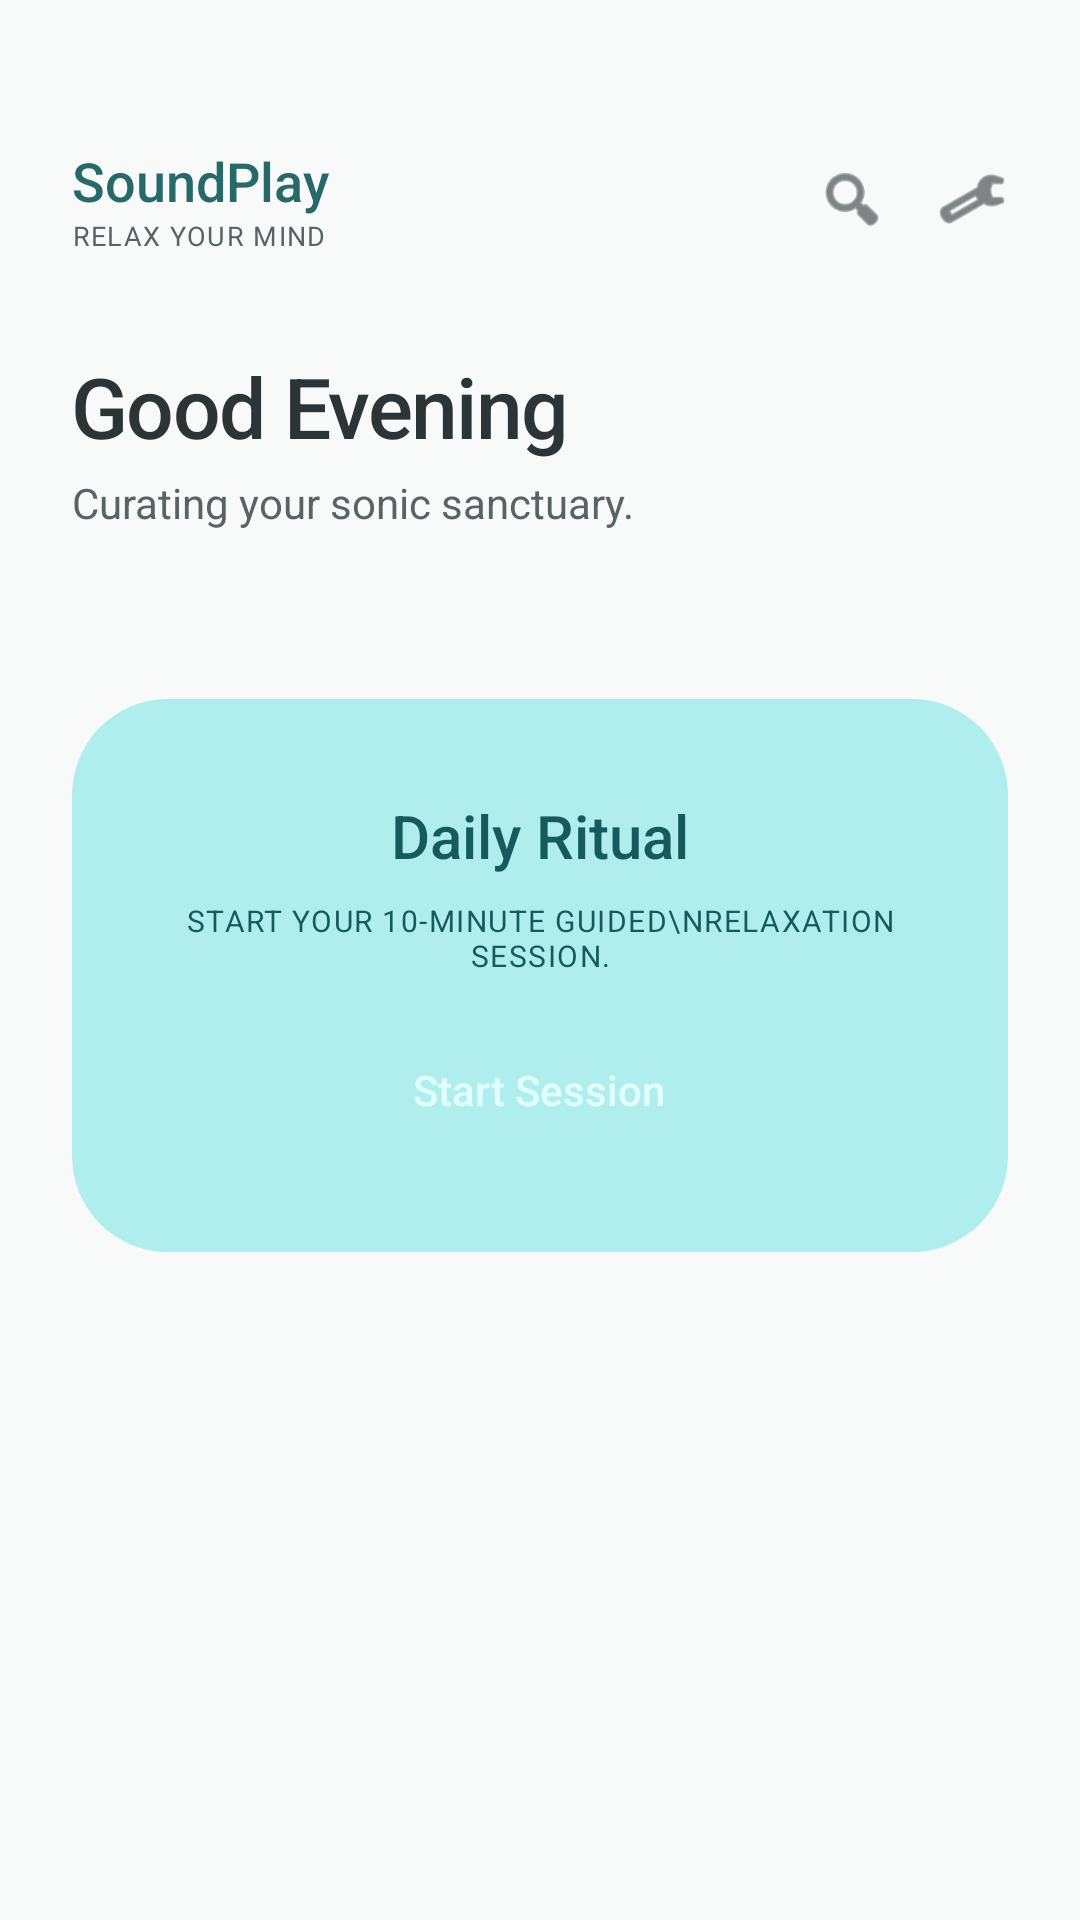

Where icons sit on this 1080 × 1920 app screen, as (x1, y1, x2, y2):
Search: (825, 173, 879, 226)
Settings: (940, 174, 1004, 224)
